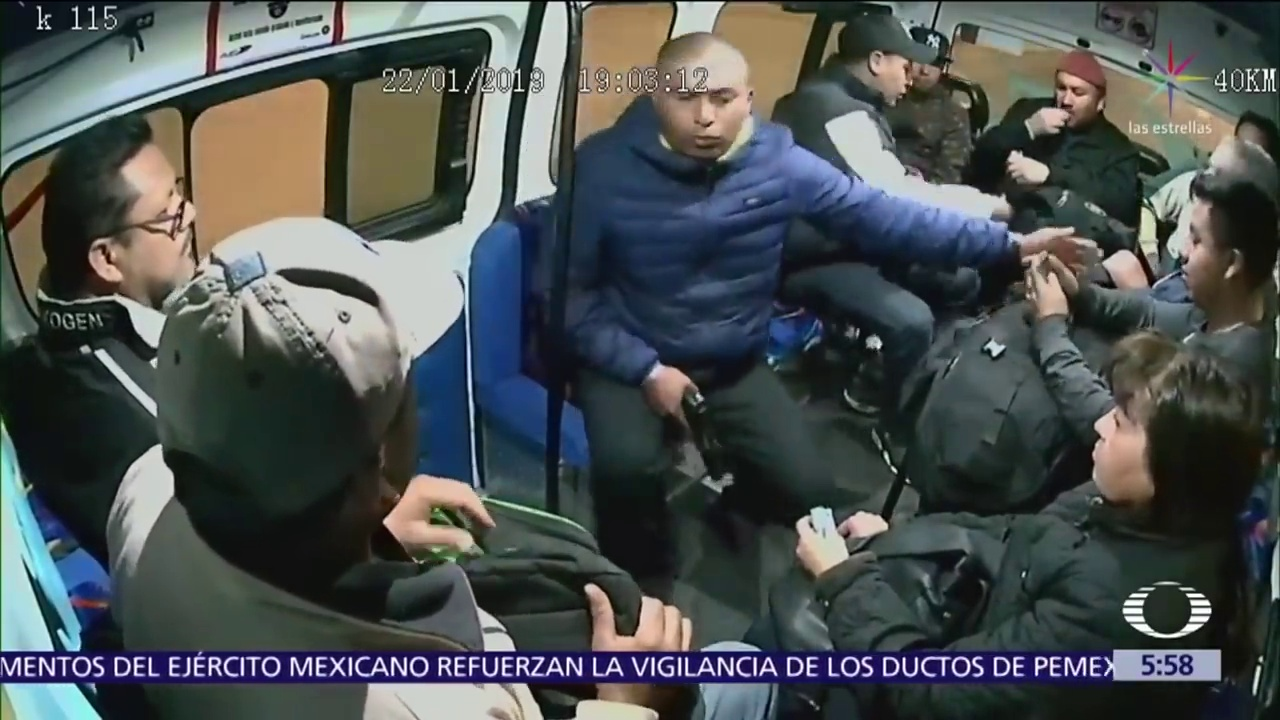pistol: (670, 384, 728, 481)
